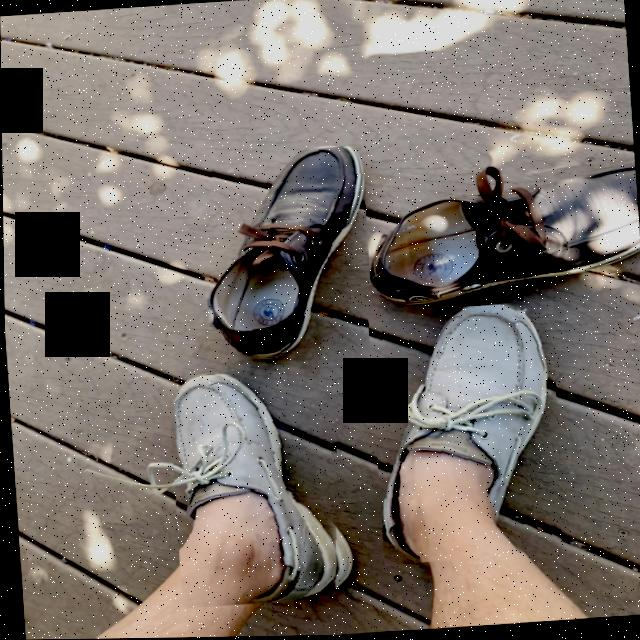shoe: (380, 305, 556, 565), (168, 377, 338, 603), (208, 147, 364, 359)
